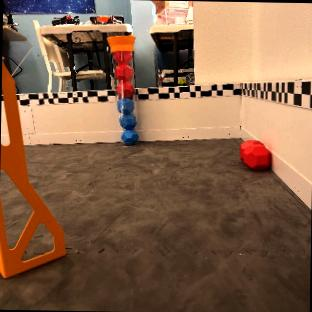Goal: (0, 60, 65, 276)
V5_BLUE: (116, 98, 137, 144)
V5_RED: (107, 34, 137, 143), (113, 50, 133, 97), (240, 140, 271, 169)
